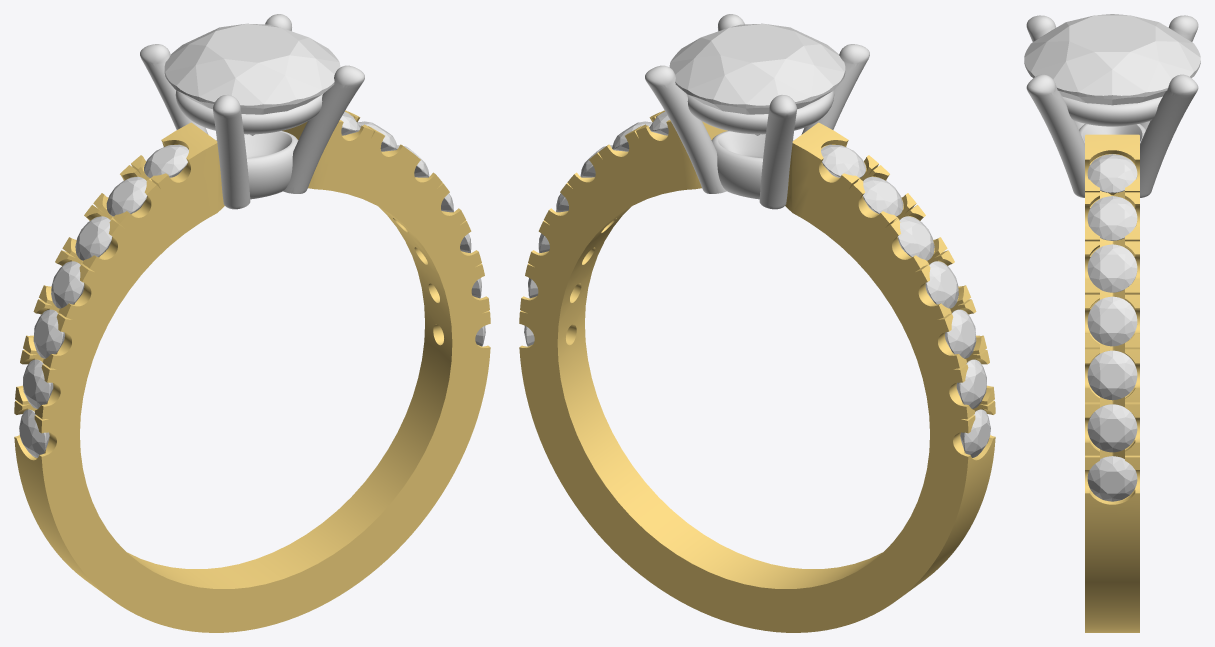
Rendered from Nate_T_new_blender.glb.
3 renders of one model, left to right at view 1: azimuth 30°, elevation 25°; view 2: azimuth 150°, elevation 25°; view 3: azimuth 270°, elevation 25°, orthographic.
Parts seen in each view (by area): view 1: new YG for 3d model, new PT for 3d model, new dia for 3d model, new dia for 3d model.010, new dia for 3d model.009, new dia for 3d model.011, new dia for 3d model.008, new dia for 3d model.012, new dia for 3d model.013, new dia for 3d model.014; view 2: new YG for 3d model, new PT for 3d model, new dia for 3d model, new dia for 3d model.010, new dia for 3d model.009, new dia for 3d model.011, new dia for 3d model.008, new dia for 3d model.012, new dia for 3d model.013, new dia for 3d model.014; view 3: new YG for 3d model, new dia for 3d model, new PT for 3d model, new dia for 3d model.004, new dia for 3d model.005, new dia for 3d model.006, new dia for 3d model.003, new dia for 3d model.007, new dia for 3d model.002, new dia for 3d model.001.
Boxes of the visible parts, x1,y1,x2,y2 form: new YG for 3d model: (14,110,490,632); new PT for 3d model: (140,14,364,209); new dia for 3d model: (164,23,340,135); new dia for 3d model.010: (75,216,112,260); new dia for 3d model.009: (106,176,147,216); new dia for 3d model.011: (51,261,84,308); new dia for 3d model.008: (144,144,188,177); new dia for 3d model.012: (33,309,64,358); new dia for 3d model.013: (23,359,53,408); new dia for 3d model.014: (19,409,49,457); new YG for 3d model: (519,110,995,632); new PT for 3d model: (645,14,869,209); new dia for 3d model: (669,23,845,135); new dia for 3d model.010: (897,216,934,260); new dia for 3d model.009: (862,176,903,216); new dia for 3d model.011: (925,261,958,308); new dia for 3d model.008: (821,144,865,177); new dia for 3d model.012: (945,309,976,358); new dia for 3d model.013: (956,359,986,408); new dia for 3d model.014: (960,409,990,457); new YG for 3d model: (1085,134,1139,632); new dia for 3d model: (1024,14,1200,105); new PT for 3d model: (1026,15,1198,197); new dia for 3d model.004: (1087,296,1137,346); new dia for 3d model.005: (1087,350,1137,400); new dia for 3d model.006: (1087,404,1137,452); new dia for 3d model.003: (1087,244,1137,292); new dia for 3d model.007: (1087,456,1137,501); new dia for 3d model.002: (1087,196,1137,240); new dia for 3d model.001: (1087,154,1137,193).
Size of the model in its own units: 21.11 by 25.52 by 7.1.
